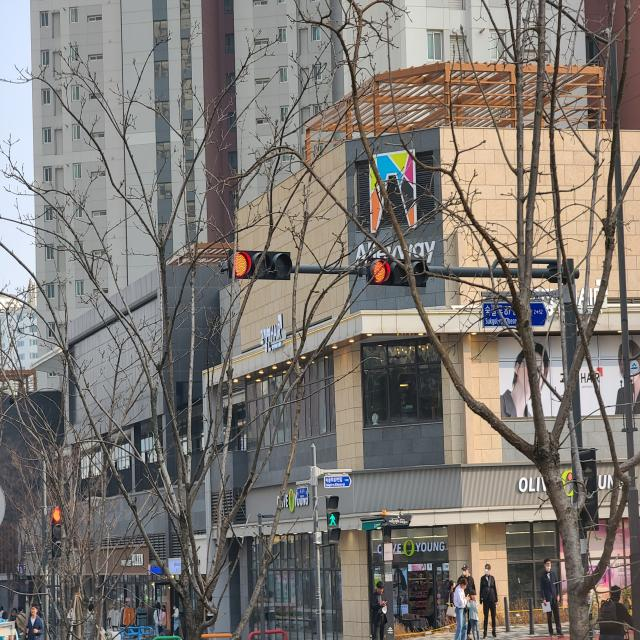Red Light: (368, 258, 391, 284), (232, 250, 251, 277)
